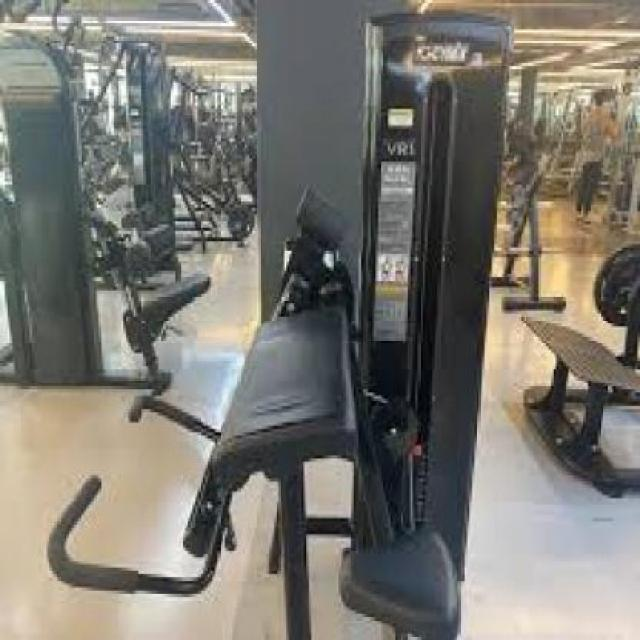arm curl machine: (45, 274, 489, 640)
